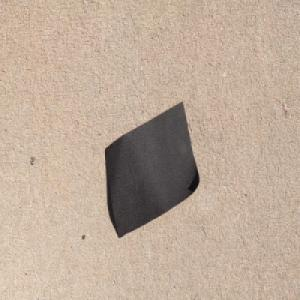PaintChip: (104, 99, 201, 240)
